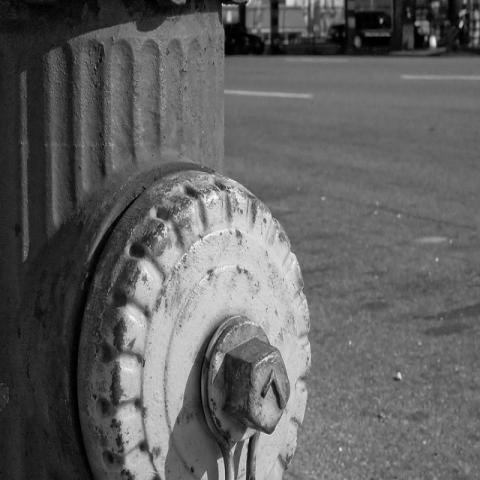car: (328, 12, 391, 50)
